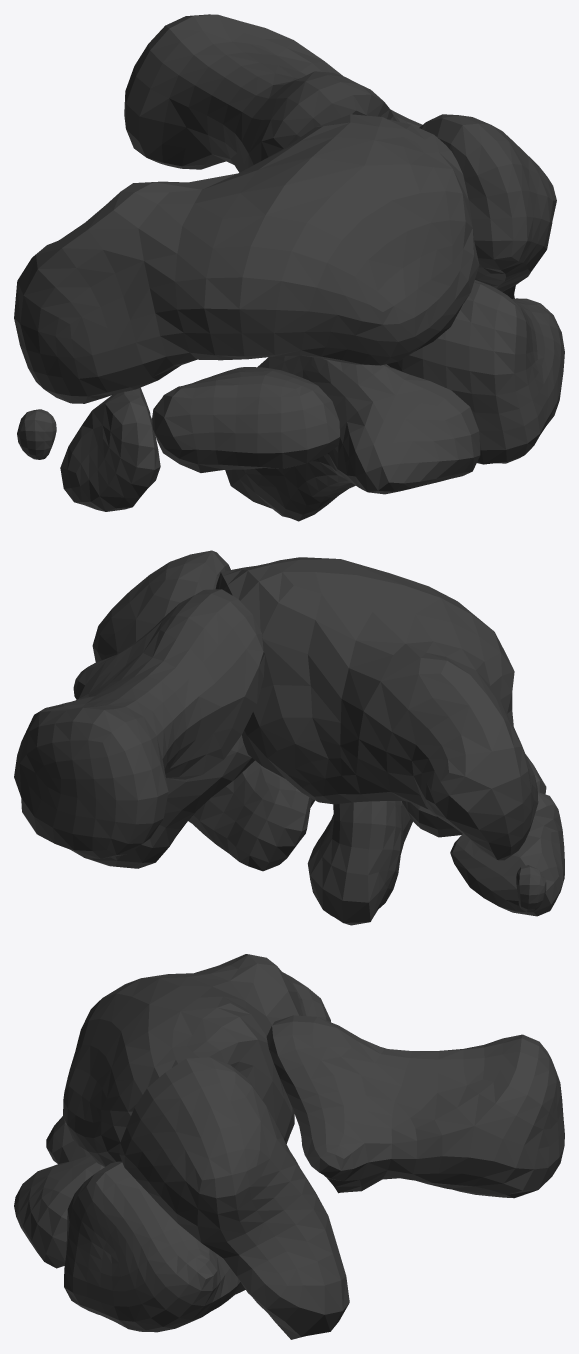
File: Carpals.glb
3 views of the same model, one above another, from view 1: azimuth 30°, elevation 25°; view 2: azimuth 150°, elevation 25°; view 3: azimuth 270°, elevation 25° (orthographic). The views are drawn at different scales.
Visible parts, largest first — view 1: Carpals; view 2: Carpals; view 3: Carpals.
Boxes of the visible parts, bbox=[...] form: Carpals: bbox=[14, 14, 564, 521]; Carpals: bbox=[14, 550, 564, 925]; Carpals: bbox=[14, 954, 564, 1339].
Bounding box in the file's own units: 1.99 × 1.36 × 2.15.
1 material, 1 textured.
